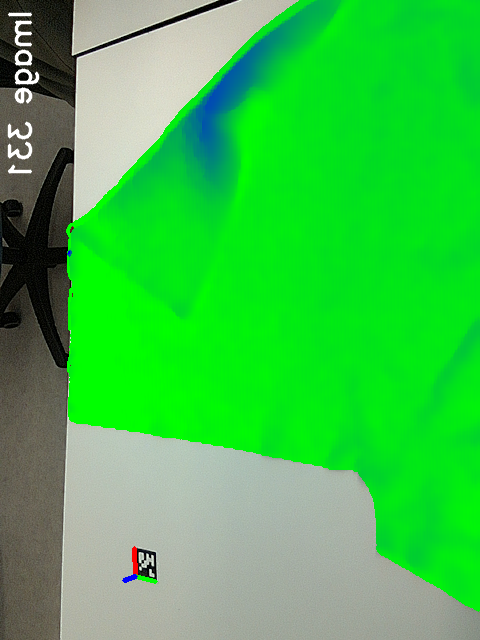V: (145, 269, 209, 329)
